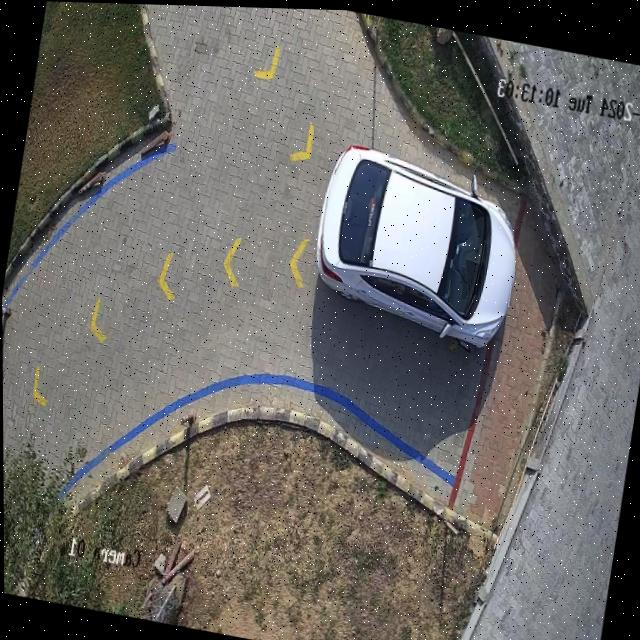car: (316, 143, 515, 348)
